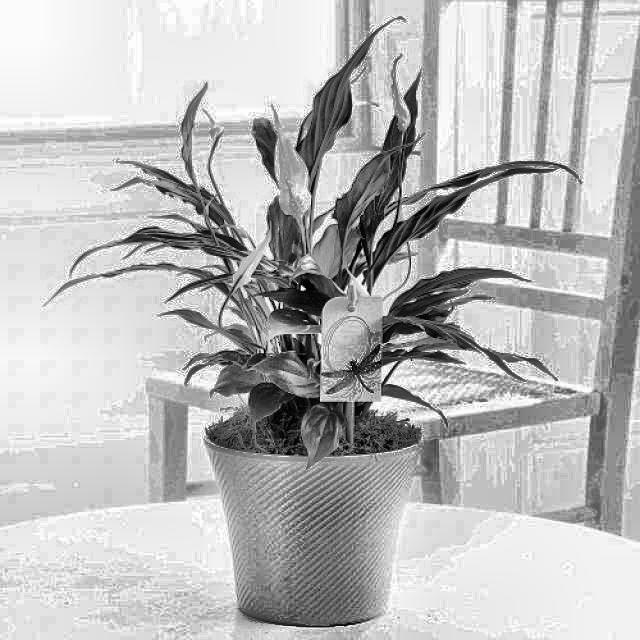plants: (112, 57, 501, 627)
